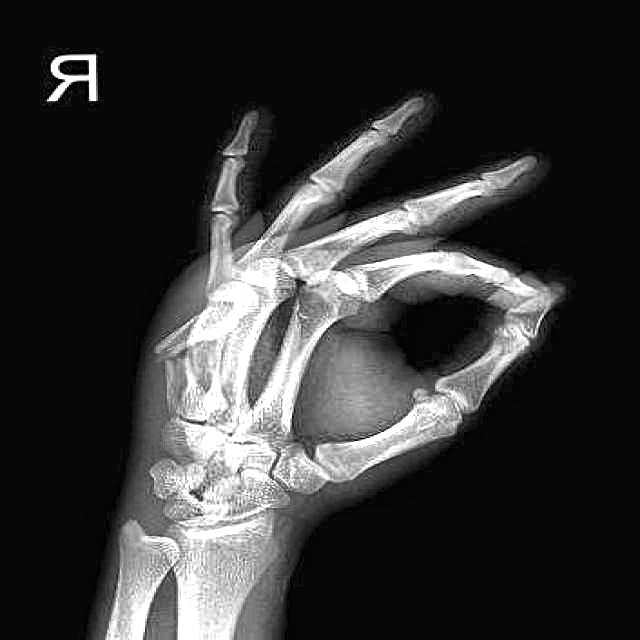Oblique: (153, 284, 248, 419)
